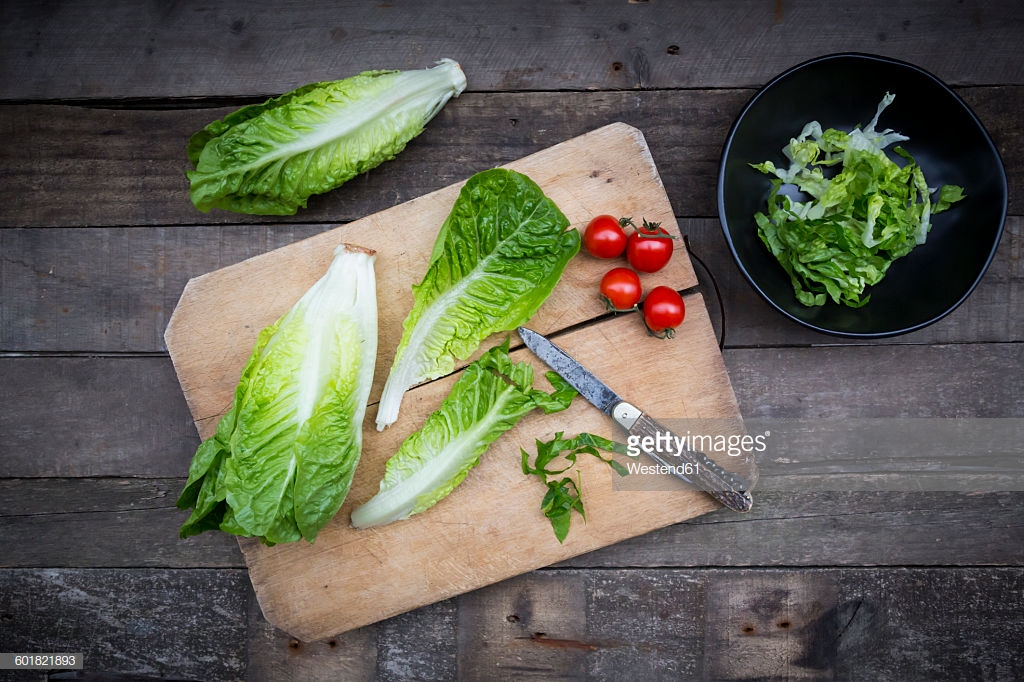chopped lettuce: (217, 315, 365, 538), (419, 187, 524, 469), (196, 105, 434, 195), (781, 138, 927, 284)
